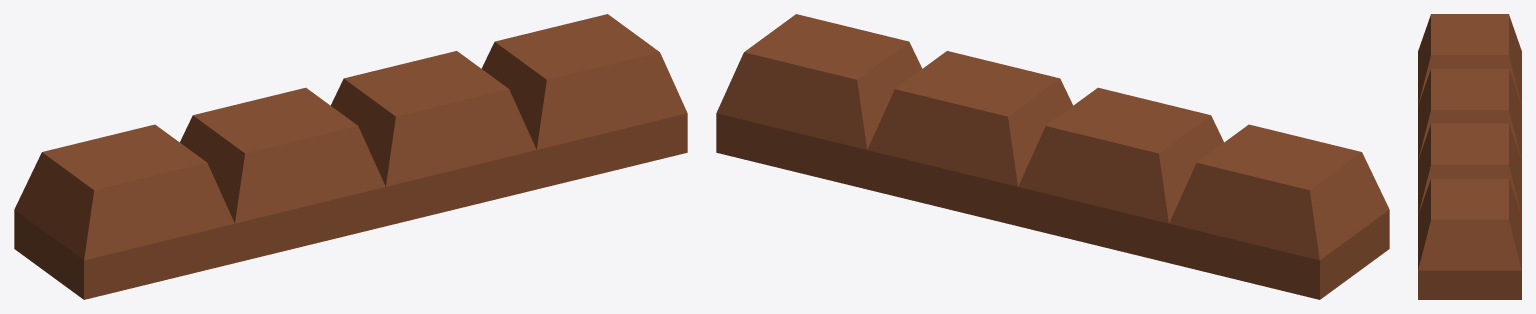
File: ChocolateBar2.fbx
3 views of the same model, side by side, from view 1: azimuth 30°, elevation 25°; view 2: azimuth 150°, elevation 25°; view 3: azimuth 270°, elevation 25° (orthographic). The views are drawn at different scales.
Visible parts, largest first — view 1: Cube; view 2: Cube; view 3: Cube.
Part boxes in pixels (x1,y1,x2,y2): Cube: (14, 14, 687, 299); Cube: (716, 14, 1389, 299); Cube: (1418, 14, 1521, 299).
Bounding box in the file's own units: 0.4 × 0.0625 × 0.08.
